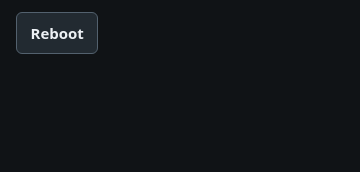
it: command controls › does not claim a requested reset has completed or booted
This screenshot has width=360, height=172.
Click the button "Reboot": (57, 33) [16,12,98,54]
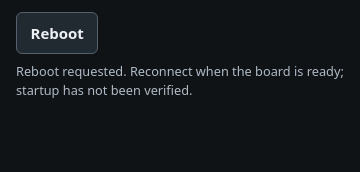
Check: the message shows "Reboot requested", box [16,62,344,99]
Check: the message shows "Reconnect", box [16,62,344,99]
